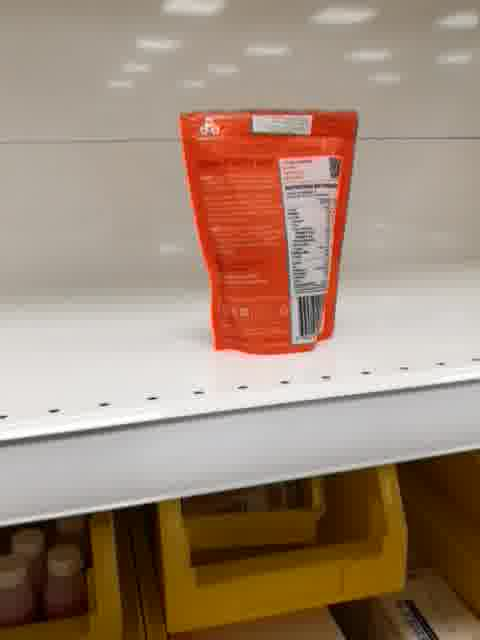whitechia: (177, 105, 360, 358)
